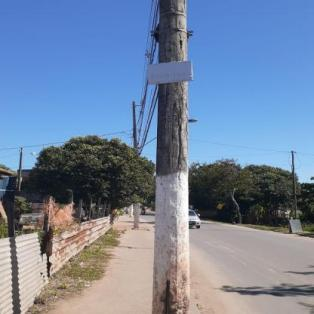Poste: (143, 2, 202, 314)
